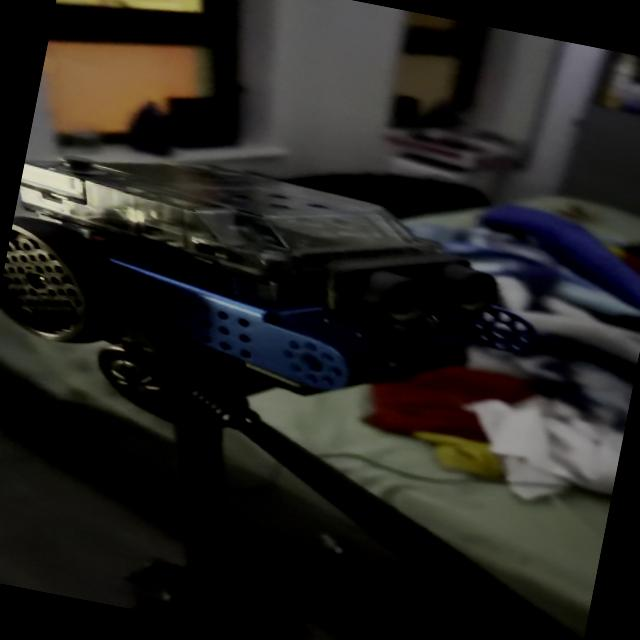mbot-detection: (0, 124, 577, 445)
